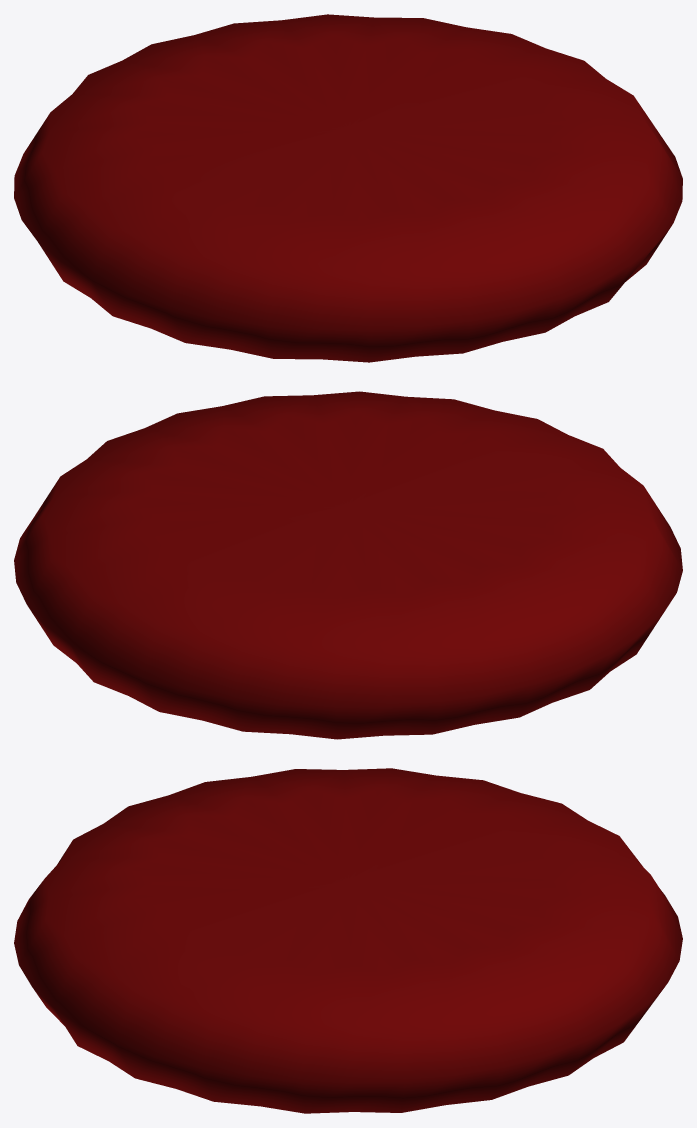
The model's file is Hamburguesa.fbx.
The picture shows the model from 3 angles, top to bottom: view 1: azimuth 30°, elevation 25°; view 2: azimuth 150°, elevation 25°; view 3: azimuth 270°, elevation 25°; orthographic projection.
Visible parts, largest first — view 1: polySurface51; view 2: polySurface51; view 3: polySurface51.
Boxes of the visible parts, x1=… form: polySurface51: x1=14, y1=14, x2=682, y2=362; polySurface51: x1=14, y1=391, x2=682, y2=739; polySurface51: x1=14, y1=768, x2=682, y2=1113.
Bounding box in the file's own units: 4.77 × 0.931 × 4.77.
